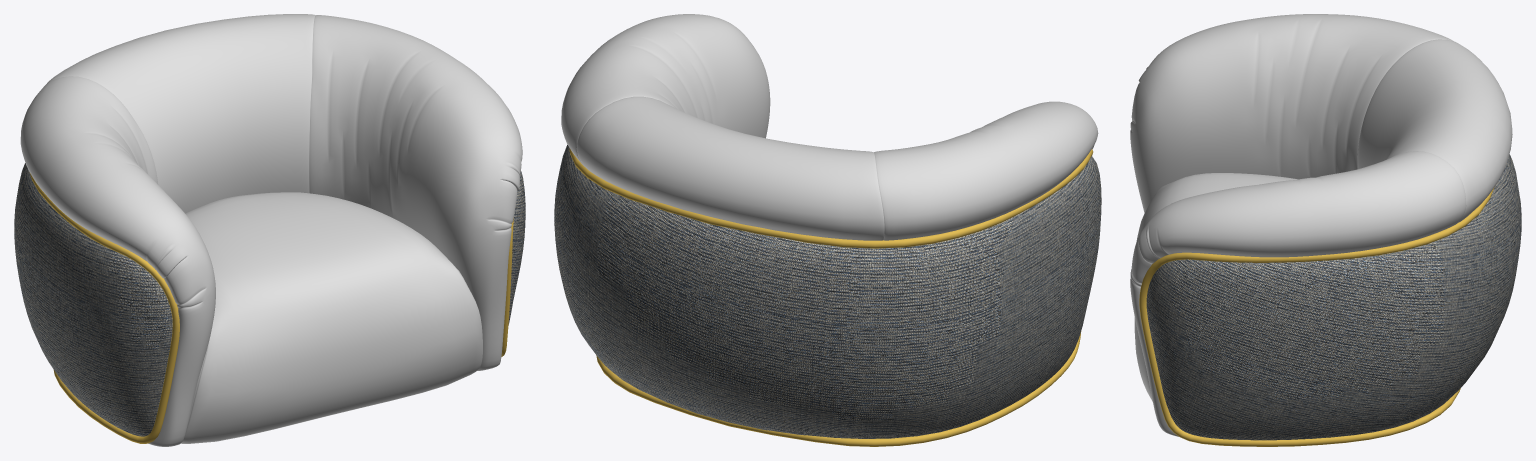
The model's file is SLN_Crazy_Daisy_1_Seater.glb.
3 renders of one model, left to right at view 1: azimuth 30°, elevation 25°; view 2: azimuth 150°, elevation 25°; view 3: azimuth 270°, elevation 25°, orthographic. The views are drawn at different scales.
Visible parts, largest first — view 1: Crazy_Daisy_1_Seater; view 2: Crazy_Daisy_1_Seater; view 3: Crazy_Daisy_1_Seater.
Boxes of the visible parts, x1=… form: Crazy_Daisy_1_Seater: x1=14, y1=14, x2=525, y2=446; Crazy_Daisy_1_Seater: x1=554, y1=14, x2=1101, y2=446; Crazy_Daisy_1_Seater: x1=1130, y1=14, x2=1521, y2=446.
Bounding box in the file's own units: 1.52 × 0.9164 × 1.21.
4 materials, 1 textured.
